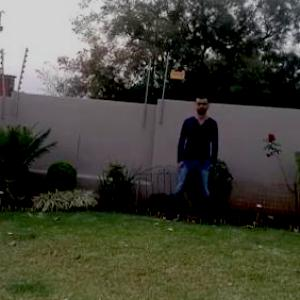follow: (169, 89, 220, 231)
